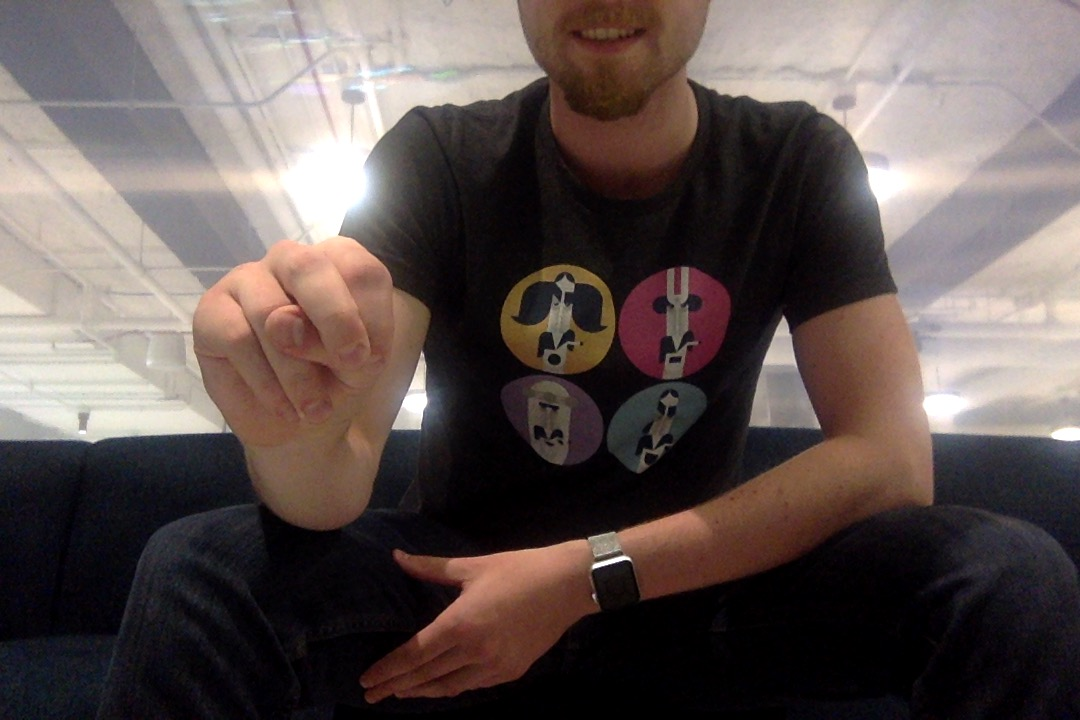n: (188, 234, 401, 453)
